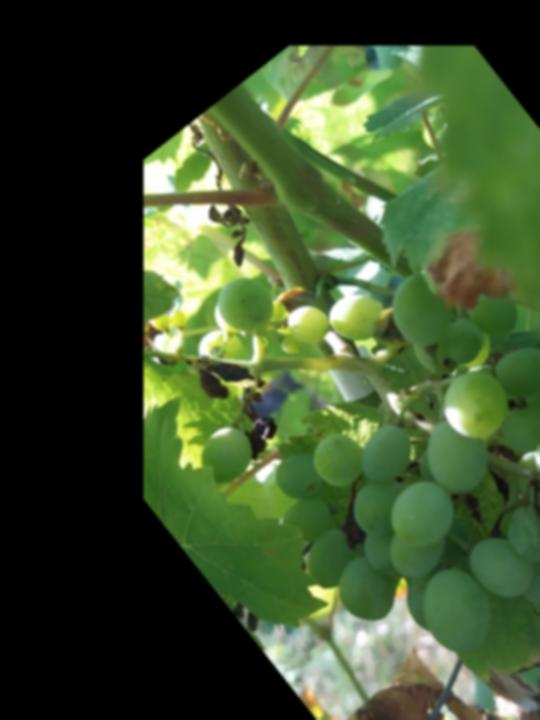grape: (123, 150, 540, 720)
